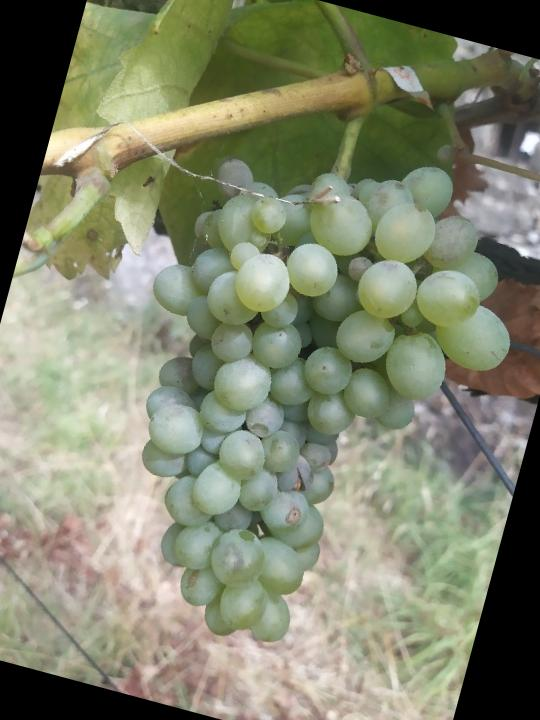grape: (73, 102, 540, 689)
